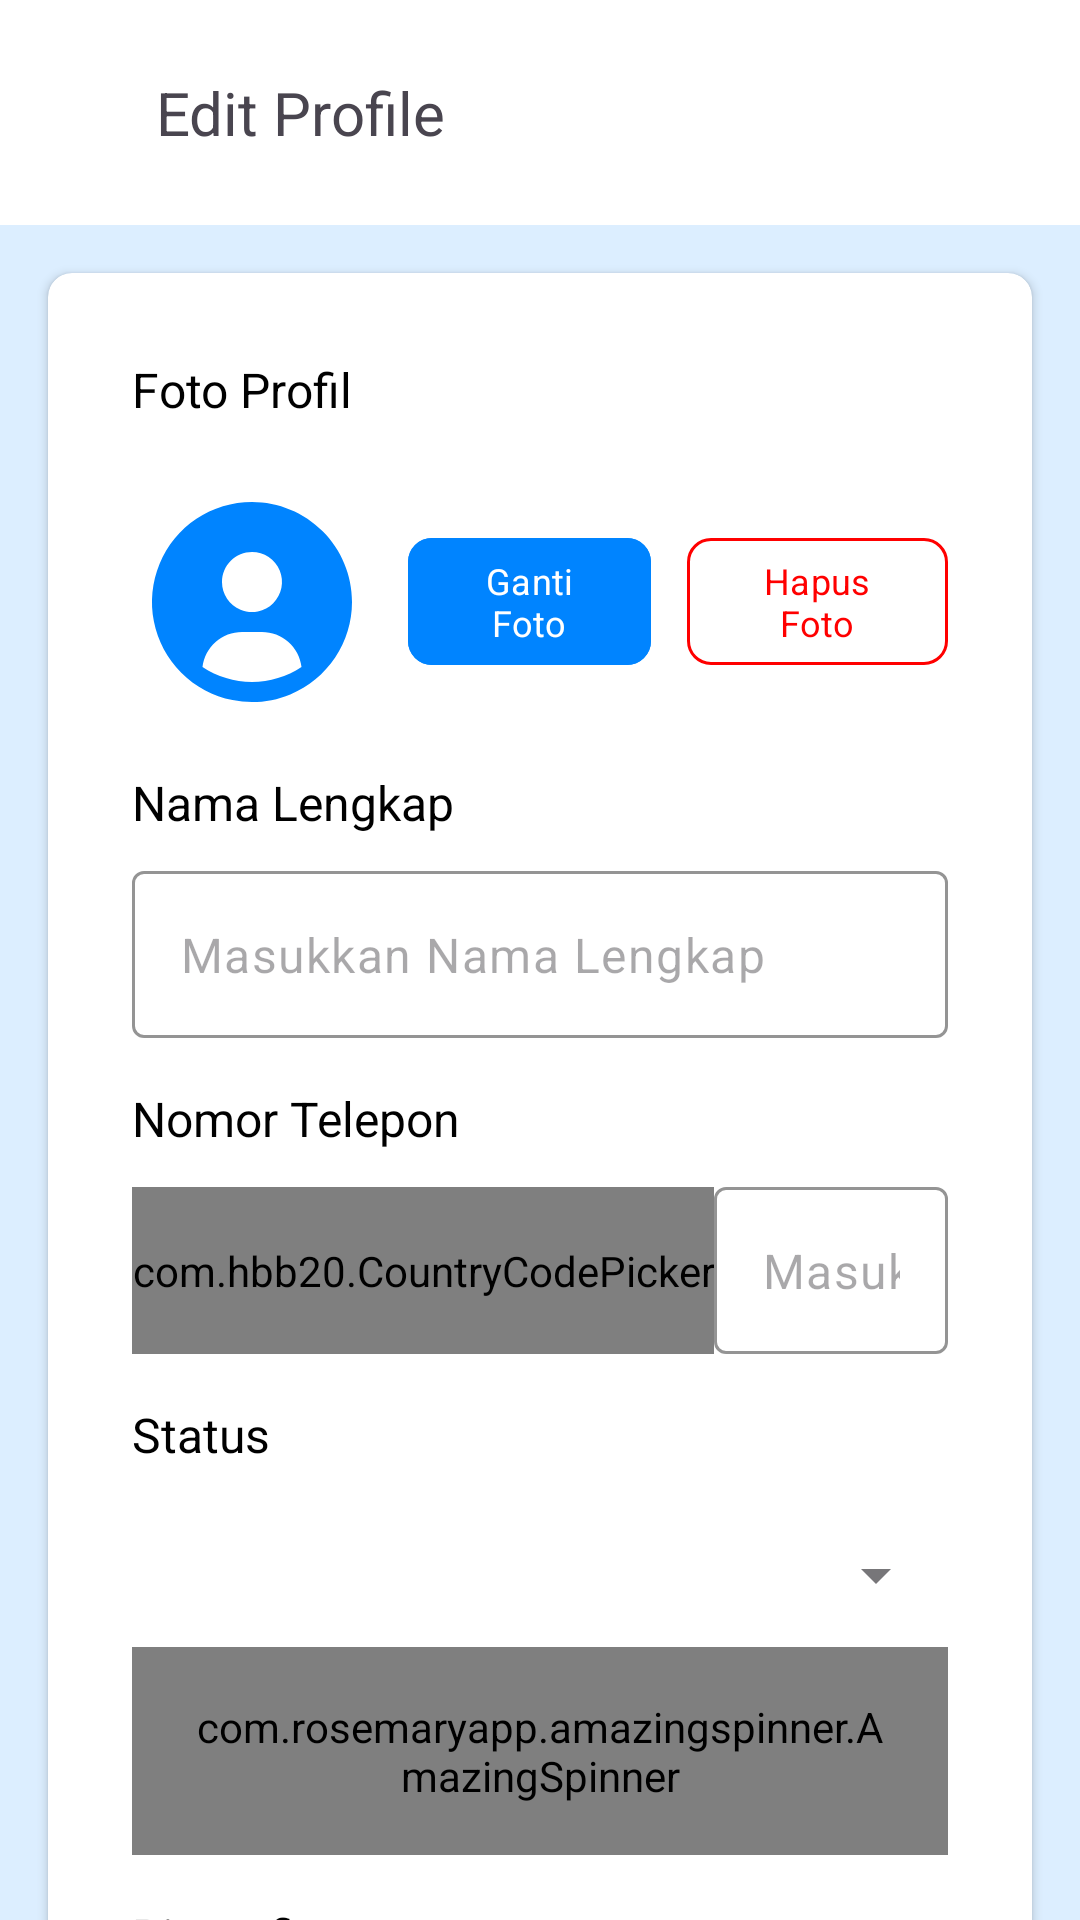

Screen size 1080*1920. Icon name, then its center in pixels as point (x, y):
user circle: point (252, 602)
